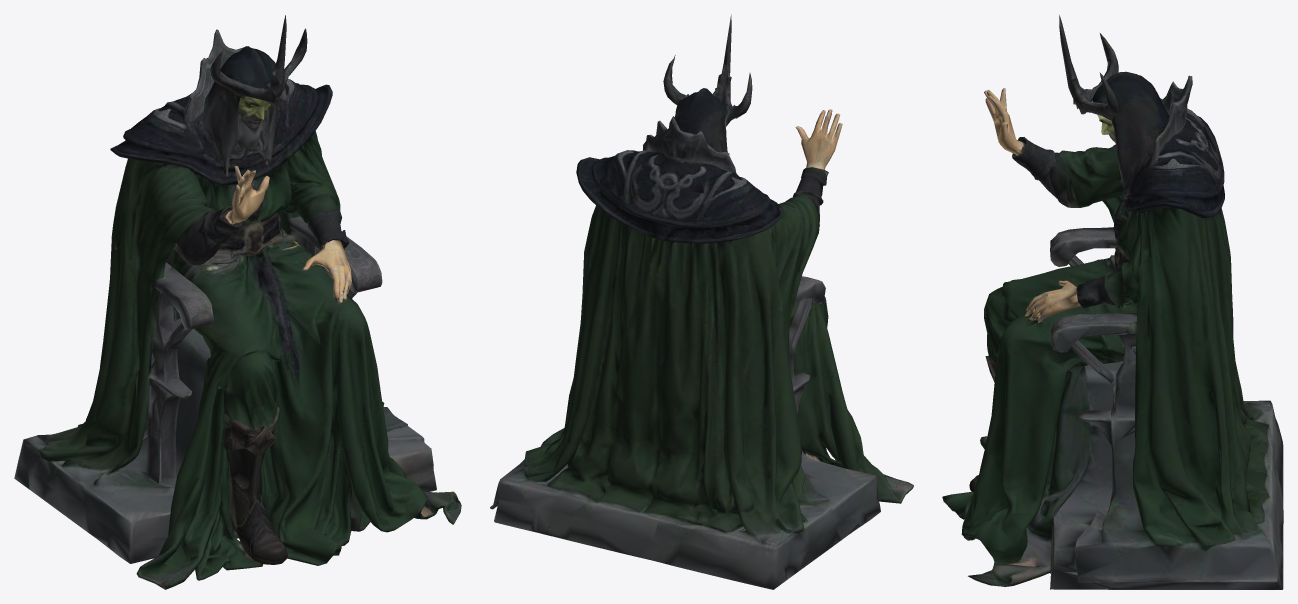
The model's file is green_king.glb.
The picture shows the model from 3 angles, left to right: view 1: azimuth 30°, elevation 25°; view 2: azimuth 150°, elevation 25°; view 3: azimuth 270°, elevation 25°; orthographic projection. The views are drawn at different scales.
Size of the model in its own units: 1.25 by 1.9 by 1.16.
1 material, 1 textured.
